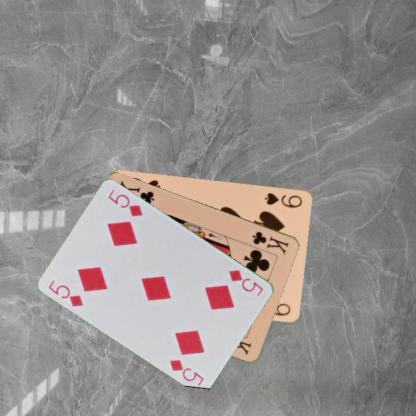5d: (226, 267, 265, 298), (46, 277, 85, 308)
9s: (262, 190, 304, 209)
Kc: (250, 228, 290, 256)
